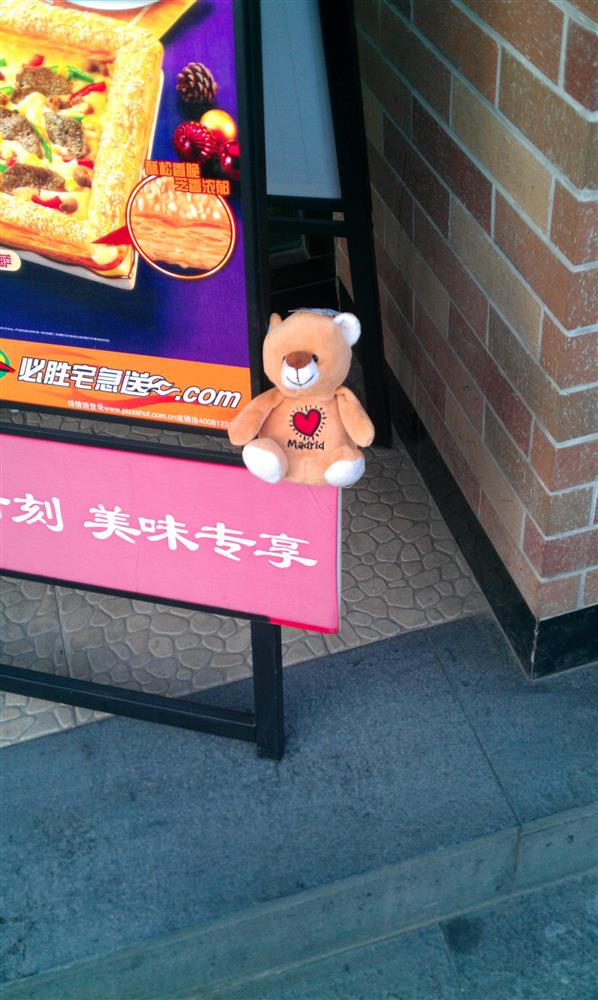madrid_bear: (216, 273, 381, 490)
